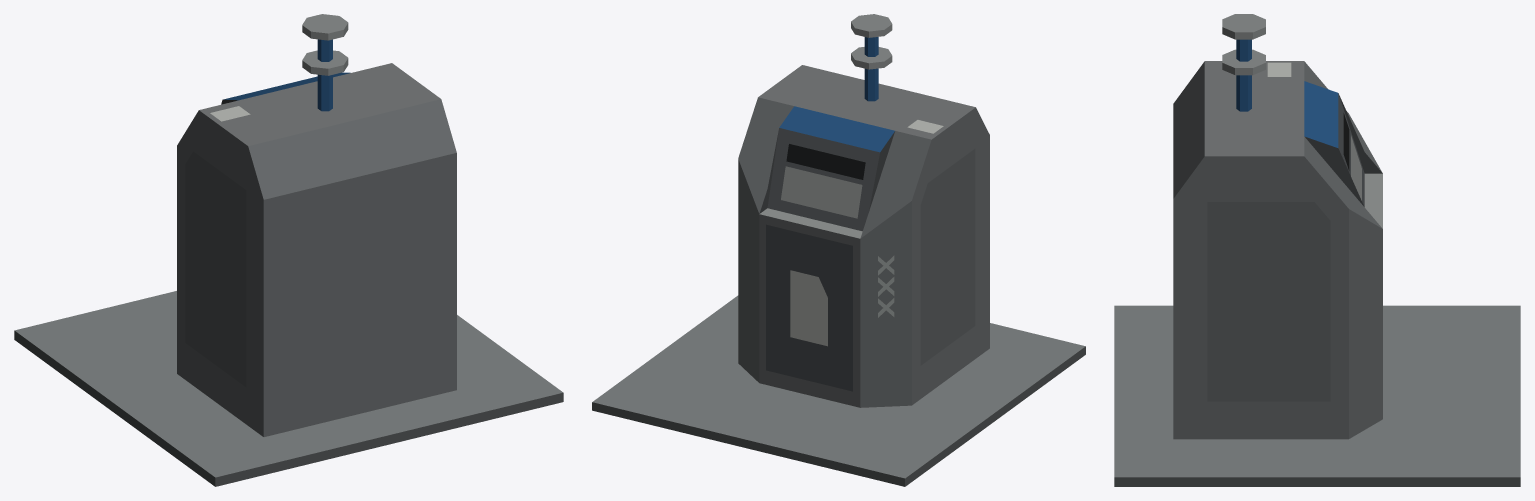
Rendered from container-papier.glb.
3 renders of one model, left to right at view 1: azimuth 30°, elevation 25°; view 2: azimuth 150°, elevation 25°; view 3: azimuth 270°, elevation 25°, orthographic. The views are drawn at different scales.
Visible parts, largest first — view 1: container-papier; view 2: container-papier; view 3: container-papier.
Boxes of the visible parts, x1=… form: container-papier: x1=14, y1=14, x2=563, y2=486; container-papier: x1=592, y1=14, x2=1085, y2=486; container-papier: x1=1114, y1=14, x2=1520, y2=486.
Bounding box in the file's own units: 1.55 × 1.59 × 1.55.
